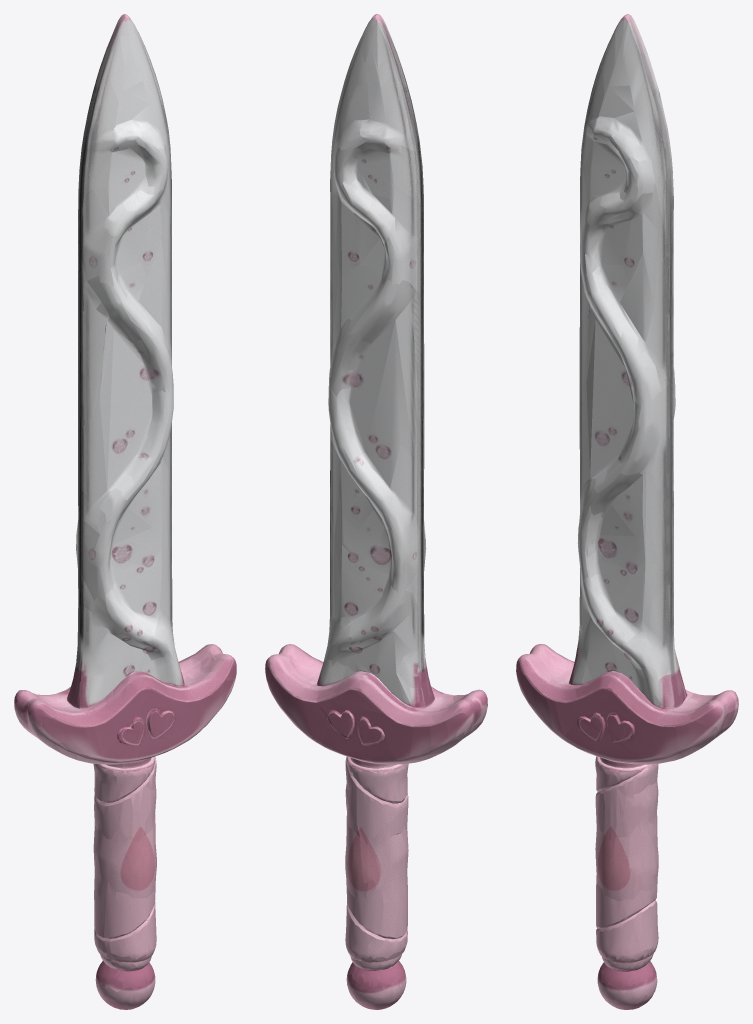
Rendered from diddy_sword.glb.
3 views of the same model, side by side, from view 1: azimuth 30°, elevation 25°; view 2: azimuth 150°, elevation 25°; view 3: azimuth 330°, elevation 25° (orthographic).
Parts seen in each view (by area): view 1: Mesh_0; view 2: Mesh_0; view 3: Mesh_0.
Part boxes in pixels (x1=…): Mesh_0: x1=14, y1=14, x2=236, y2=1009; Mesh_0: x1=265, y1=14, x2=487, y2=1009; Mesh_0: x1=516, y1=14, x2=738, y2=1009.
Size of the model in its own units: 0.4133 by 1.9 by 0.1547.
1 material, 1 textured.
